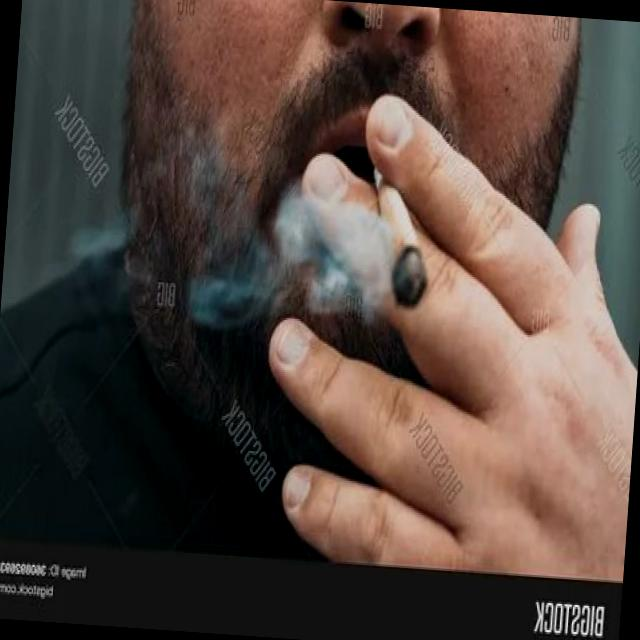smoke: (356, 146, 438, 313)
